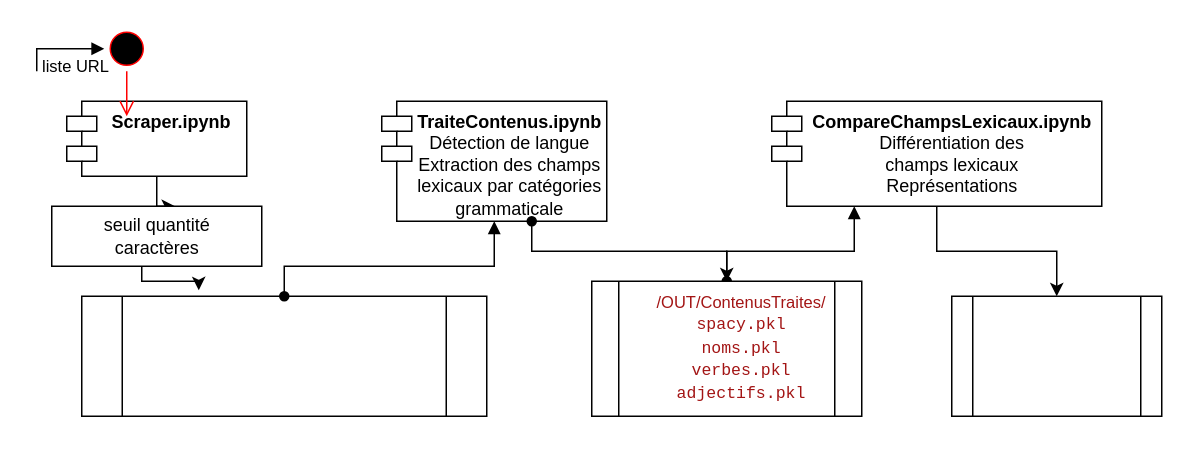
Image size: 1188x468. Some labels were removed from this diagram. The centre of each missing label's shape, as x and y in pixels:
/OUT/ images (fichiers ou inline): [1056,355]
/OUT/ContenusSites/*.pkl données textuelles par sites par typologie: [283,355]
